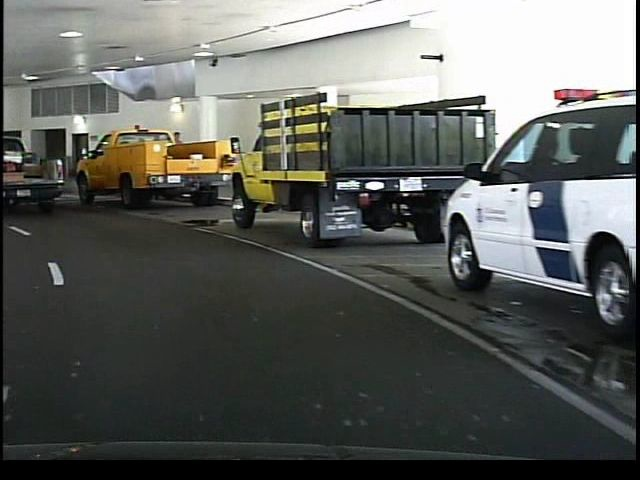person: (169, 126, 182, 144)
